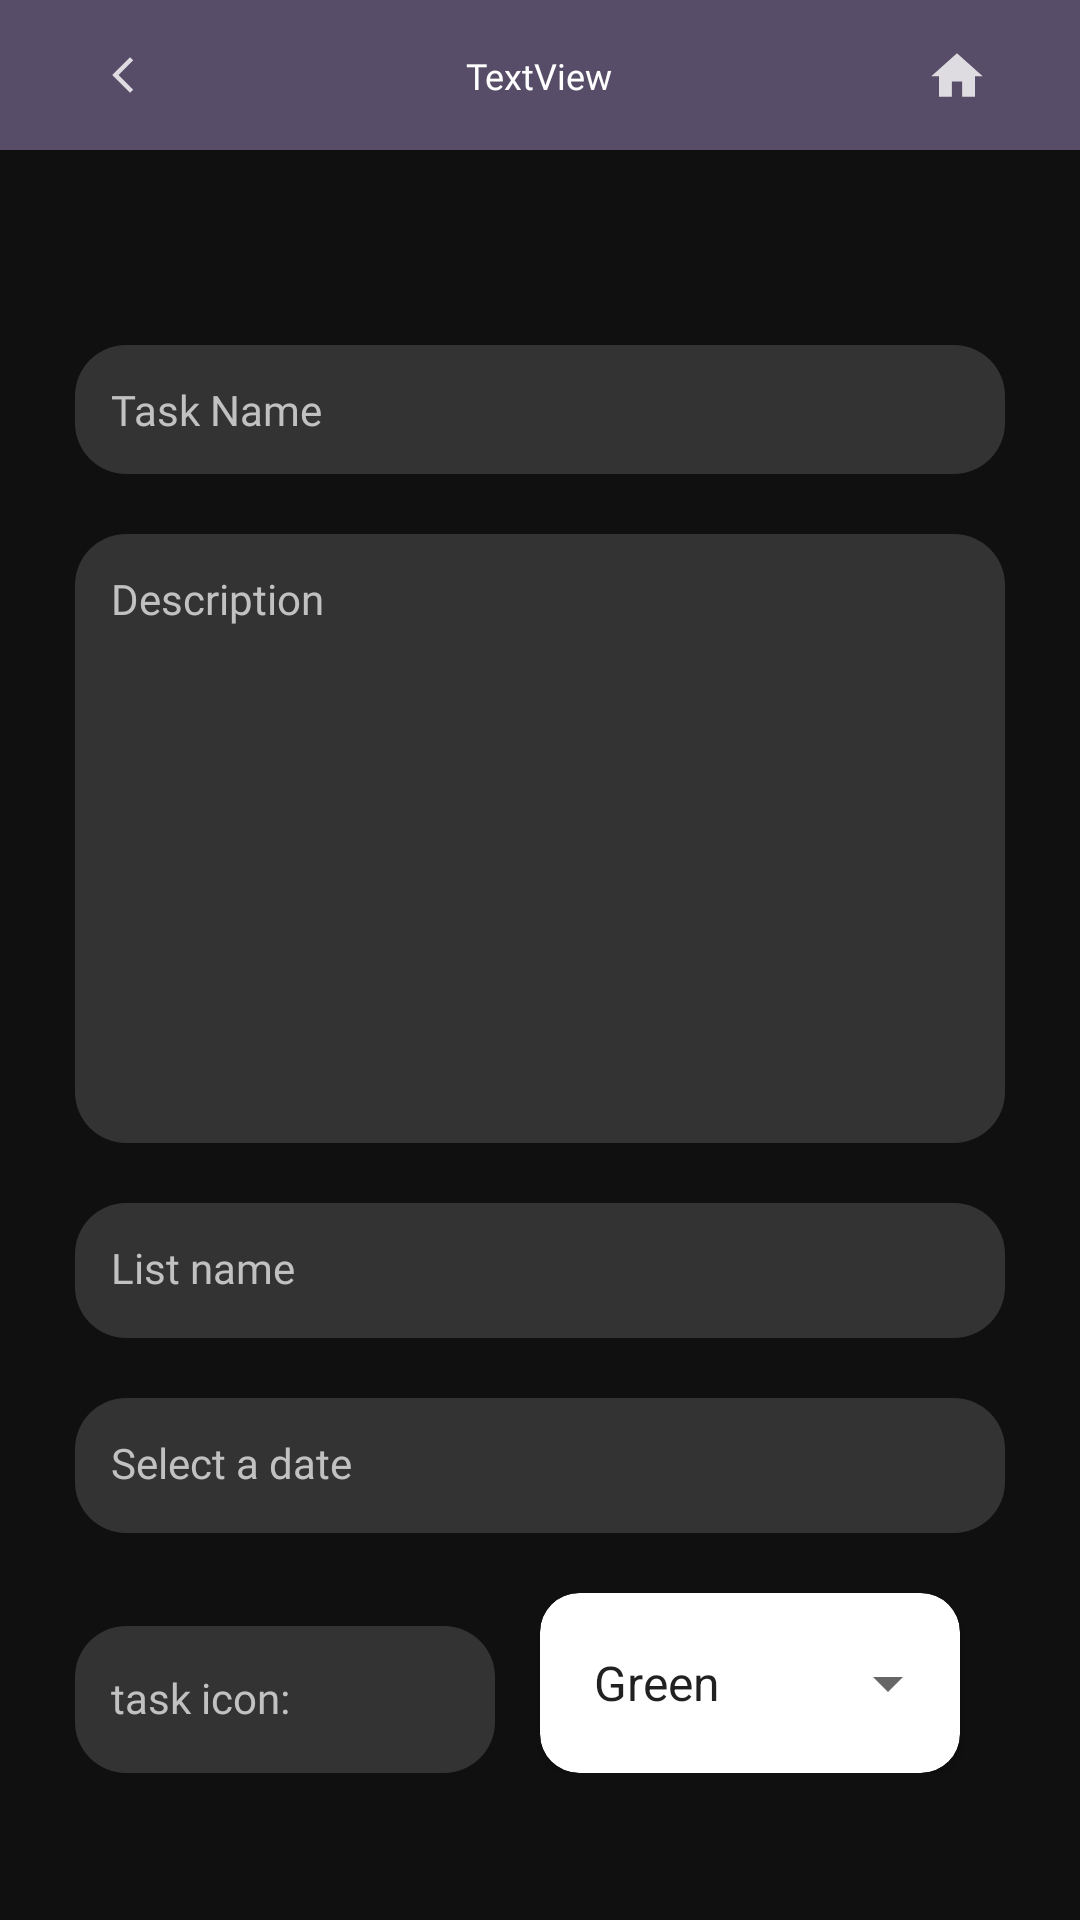

Named icons in this screenshot (1080w x 1920h) and their centers, (x,y):
back arrow: (122,75)
home: (957,75)
